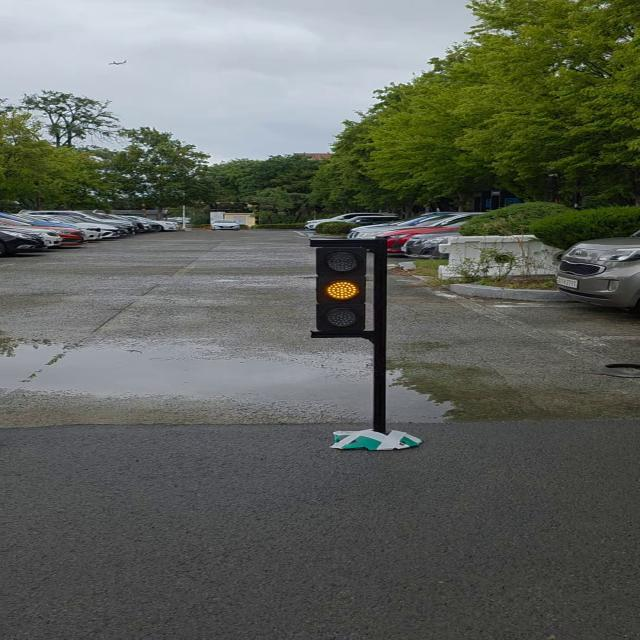yellow: (318, 245, 372, 337)
